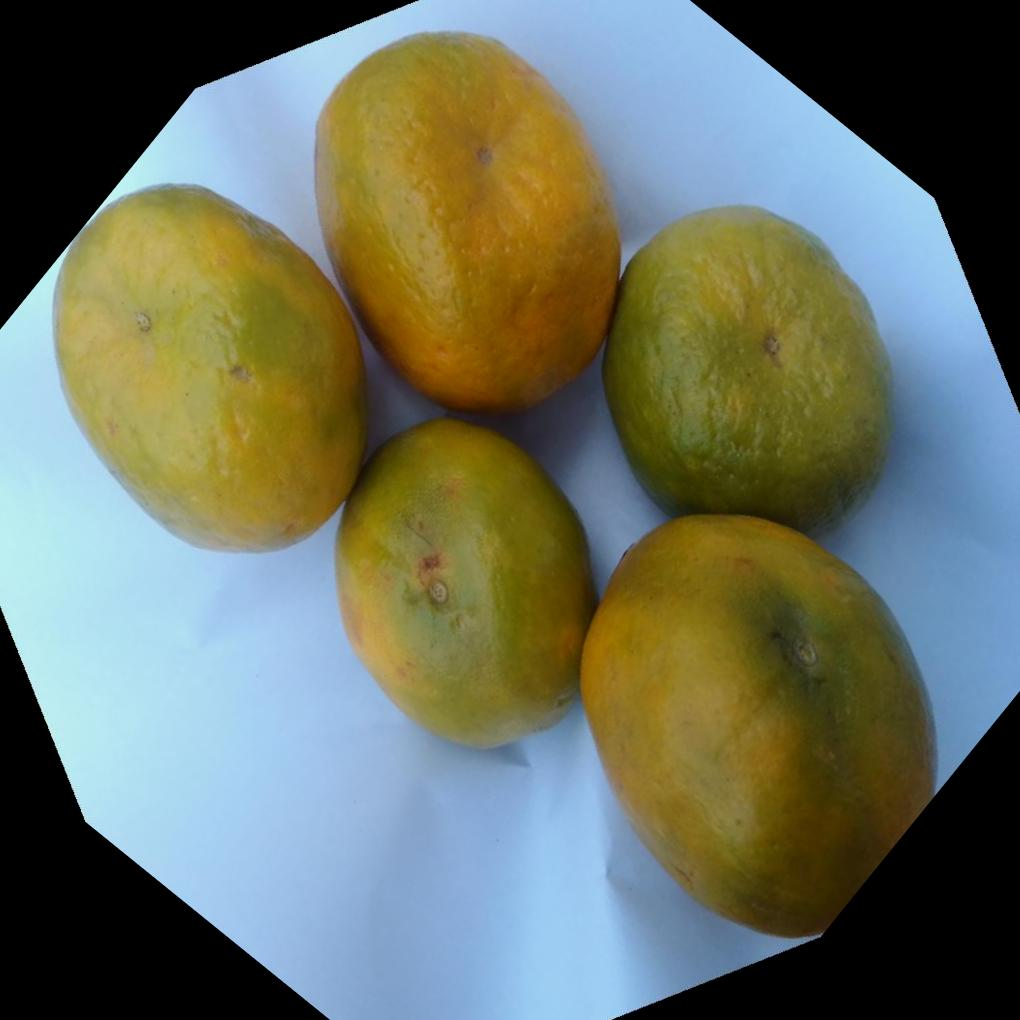FreshGuava: (53, 31, 941, 942)
